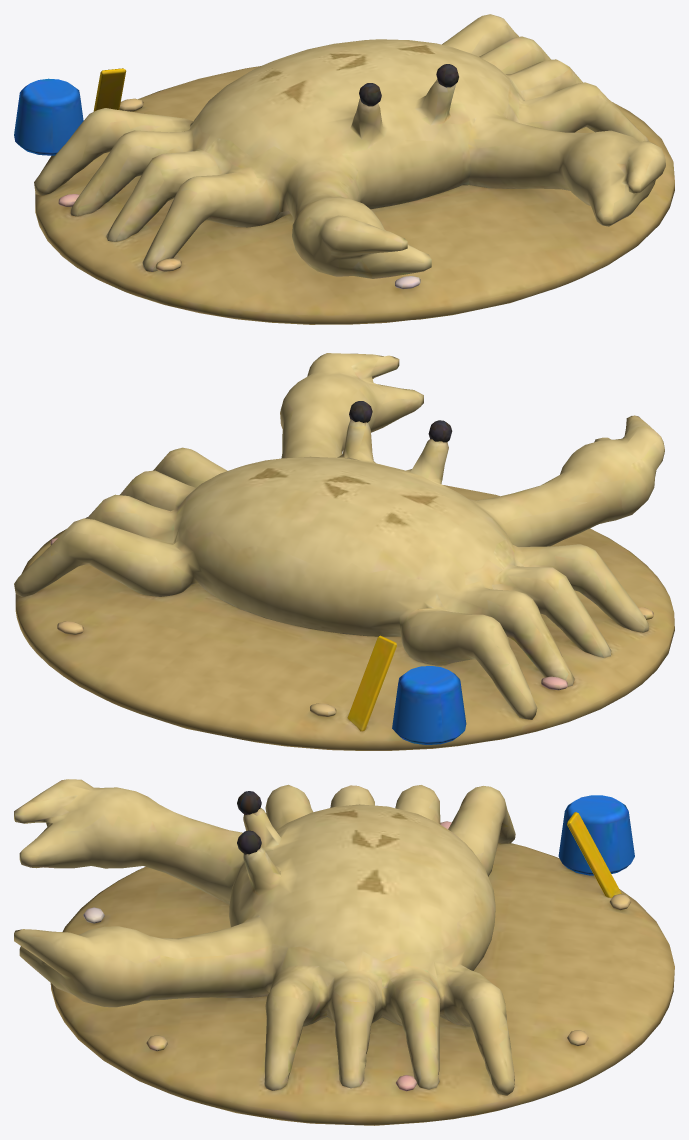
File: sand_crab.glb
3 views of the same model, one above another, from view 1: azimuth 30°, elevation 25°; view 2: azimuth 150°, elevation 25°; view 3: azimuth 270°, elevation 25° (orthographic). The views are drawn at different scales.
Visible parts, largest first — view 1: sand_crab; view 2: sand_crab; view 3: sand_crab.
Boxes of the visible parts, x1,y1,x2,y2 form: sand_crab: (14,14,674,324); sand_crab: (14,353,674,750); sand_crab: (14,779,674,1125).
Size of the model in its own units: 0.8795 by 0.2815 by 0.8467.
1 material, 1 textured.
